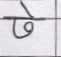e_matra: (20, 2, 35, 17)
